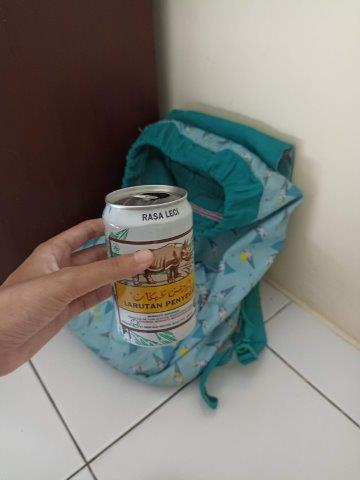kaleng: (101, 185, 196, 343)
